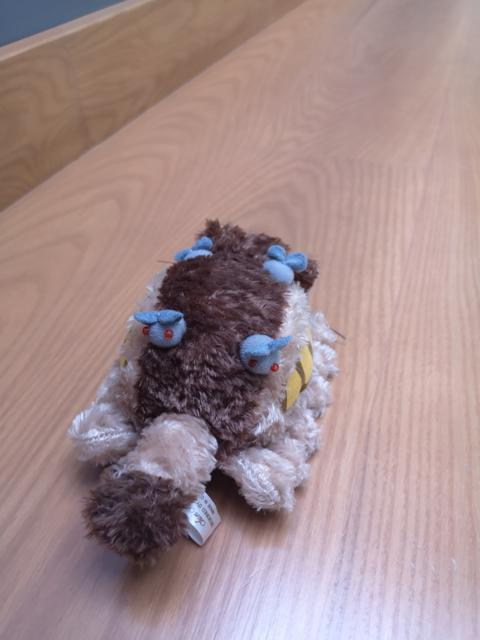nekobus: (64, 204, 346, 571)
